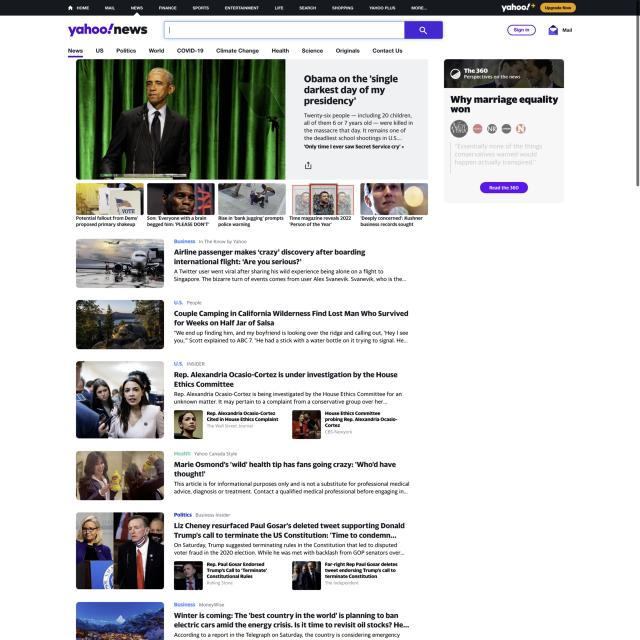input: (164, 20, 443, 40)
logo: (67, 20, 150, 39)
navigation: (65, 46, 408, 59), (65, 5, 430, 12)
